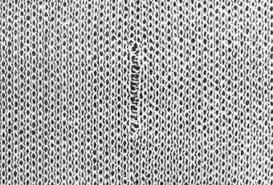Hole: (105, 27, 172, 162)
